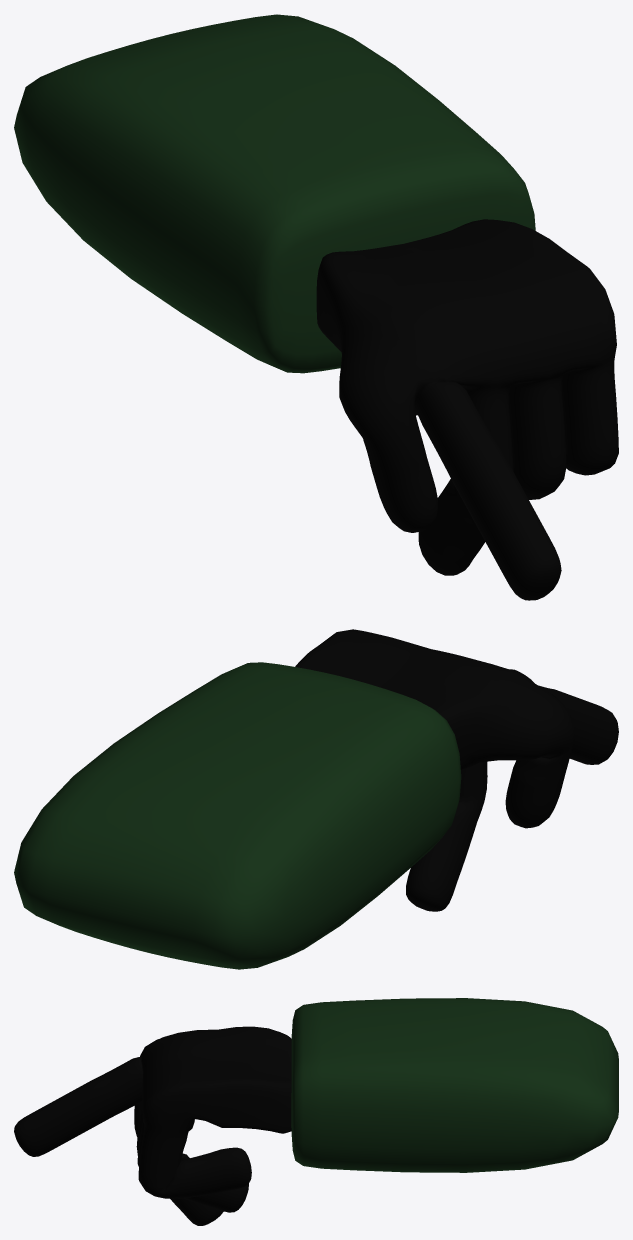
The model's file is Hand_3.fbx.
3 renders of one model, top to bottom at view 1: azimuth 30°, elevation 25°; view 2: azimuth 150°, elevation 25°; view 3: azimuth 270°, elevation 25°, orthographic. The views are drawn at different scales.
Parts seen in each view (by area): view 1: Cube; view 2: Cube; view 3: Cube.
Part boxes in pixels (x1,y1,x2,y2): Cube: (14,14,618,600); Cube: (14,629,618,969); Cube: (14,998,618,1225).
Size of the model in its own units: 191 by 199 by 525.
